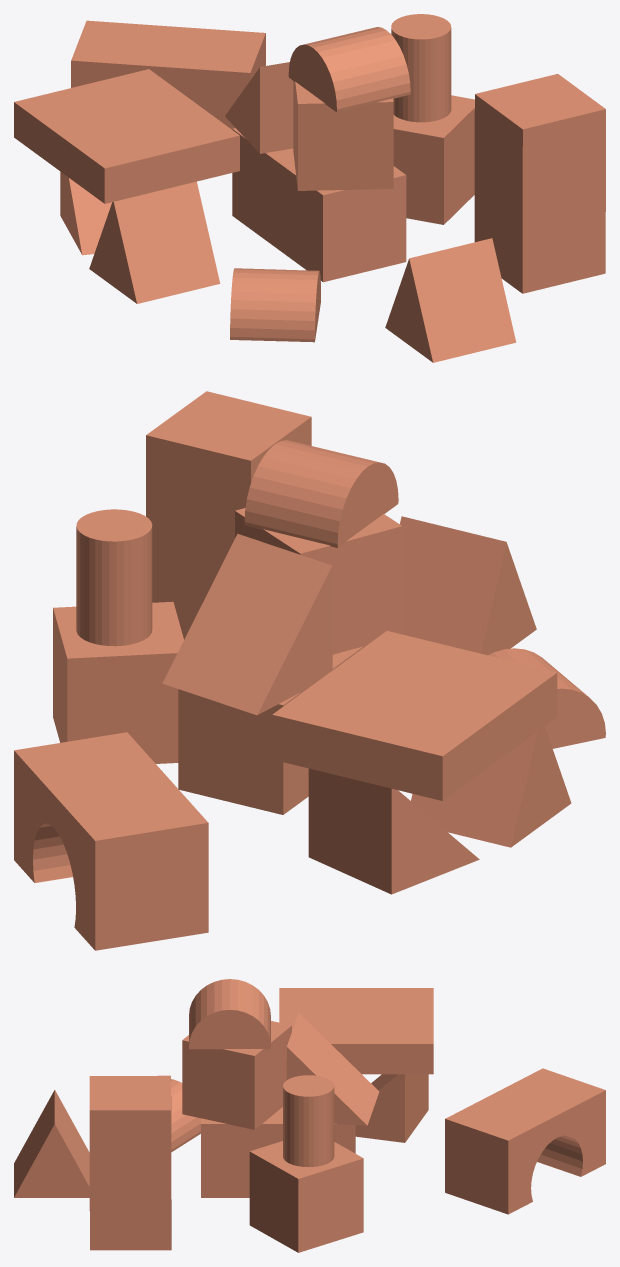
The model's file is playing blocks.fbx.
3 views of the same model, one above another, from view 1: azimuth 30°, elevation 25°; view 2: azimuth 150°, elevation 25°; view 3: azimuth 270°, elevation 25° (orthographic). The views are drawn at different scales.
Parts seen in each view (by area): view 1: rectangle 2, skinny rectangle skinny legend, rectangle 1, rectangle bridge shape, triangle, triangle 2, cube1, cube2, half tube, half tube.001, Cylinder, slanted triangle 1 (+1 smaller); view 2: rectangle bridge shape, skinny rectangle skinny legend, slanted triangle 1, rectangle 2, cube2, triangle, slanted triangle 2, half tube, rectangle 1, Cylinder, cube1, triangle 2 (+1 smaller); view 3: rectangle bridge shape, rectangle 2, skinny rectangle skinny legend, cube2, cube1, triangle, half tube, rectangle 1, slanted triangle 1, Cylinder, slanted triangle 2, half tube.001.
Part boxes in pixels (x1,y1,x2,y2): rectangle 2: (474,74,605,293); skinny rectangle skinny legend: (14,69,239,203); rectangle 1: (232,128,406,282); rectangle bridge shape: (71,20,265,129); triangle: (385,238,516,362); triangle 2: (89,181,220,303); cube1: (293,81,393,190); cube2: (393,95,474,224); half tube: (288,27,410,112); half tube.001: (230,268,320,342); Cylinder: (391,14,451,122); slanted triangle 1: (225,62,293,153); rectangle bridge shape: (14,732,208,950); skinny rectangle skinny legend: (272,631,557,800); slanted triangle 1: (162,533,332,715); rectangle 2: (146,391,311,639); cube2: (53,601,183,763); triangle: (400,516,536,655); slanted triangle 2: (308,768,479,894); half tube: (244,440,398,547); rectangle 1: (178,646,365,814); Cylinder: (76,509,152,646); cube1: (235,508,402,654); triangle 2: (411,726,571,847); rectangle bridge shape: (445,1068,605,1214); rectangle 2: (89,1075,171,1250); skinny rectangle skinny legend: (279,988,433,1074); cube2: (249,1141,363,1252); cube1: (182,1021,291,1129); triangle: (14,1090,89,1197); half tube: (189,979,270,1049); rectangle 1: (201,1107,355,1197); slanted triangle 1: (286,1013,379,1125); Cylinder: (283,1075,334,1167); slanted triangle 2: (355,1074,428,1142); half tube.001: (171,1079,200,1152).
Size of the model in its own units: 290 by 157 by 449.
